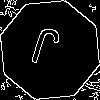J: (25, 25, 63, 77)
